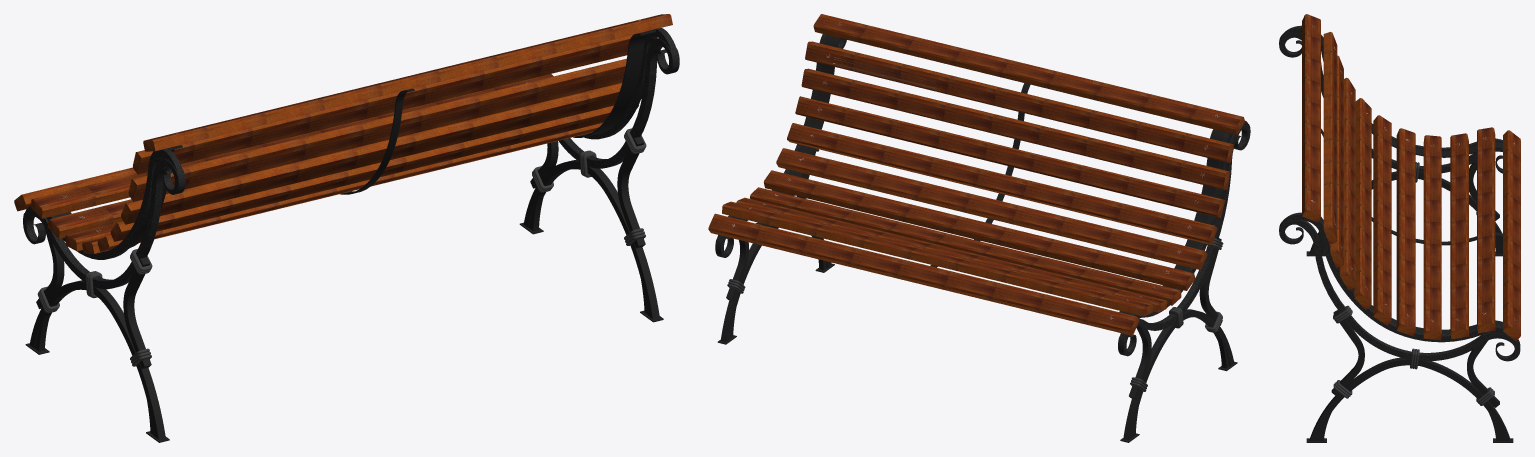
3 views of the same model, side by side, from view 1: azimuth 30°, elevation 25°; view 2: azimuth 150°, elevation 25°; view 3: azimuth 270°, elevation 25° (orthographic). The views are drawn at different scales.
Parts seen in each view (by area): view 1: mesh3_mesh3-geometry, mesh71_mesh71-geometry, mesh37_mesh37-geometry, mesh10_mesh10-geometry, mesh44_mesh44-geometry, mesh24_mesh24-geometry, mesh31_mesh31-geometry, mesh65_mesh65-geometry, mesh1_mesh1-geometry, mesh67_mesh67-geometry; view 2: mesh3_mesh3-geometry, mesh71_mesh71-geometry, mesh44_mesh44-geometry, mesh10_mesh10-geometry, mesh24_mesh24-geometry, mesh37_mesh37-geometry, mesh58_mesh58-geometry, mesh67_mesh67-geometry, mesh65_mesh65-geometry; view 3: mesh3_mesh3-geometry, mesh37_mesh37-geometry, mesh10_mesh10-geometry, mesh71_mesh71-geometry, mesh31_mesh31-geometry, mesh44_mesh44-geometry, mesh33_mesh33-geometry, mesh58_mesh58-geometry, mesh24_mesh24-geometry, mesh67_mesh67-geometry.
Boxes of the visible parts, box(x1,y1,x2,y2) form: mesh3_mesh3-geometry: box(14, 14, 672, 253); mesh71_mesh71-geometry: box(23, 148, 185, 289); mesh37_mesh37-geometry: box(558, 28, 679, 168); mesh10_mesh10-geometry: box(523, 160, 659, 319); mesh44_mesh44-geometry: box(29, 280, 165, 439); mesh24_mesh24-geometry: box(573, 29, 655, 137); mesh31_mesh31-geometry: box(617, 136, 645, 248); mesh65_mesh65-geometry: box(123, 257, 151, 368); mesh1_mesh1-geometry: box(340, 88, 414, 194); mesh67_mesh67-geometry: box(36, 226, 64, 308); mesh3_mesh3-geometry: box(708, 14, 1244, 335); mesh71_mesh71-geometry: box(1118, 120, 1250, 356); mesh44_mesh44-geometry: box(1123, 309, 1234, 440); mesh10_mesh10-geometry: box(720, 225, 831, 342); mesh24_mesh24-geometry: box(734, 35, 840, 221); mesh37_mesh37-geometry: box(715, 34, 846, 257); mesh58_mesh58-geometry: box(1119, 129, 1225, 314); mesh67_mesh67-geometry: box(1129, 325, 1151, 399); mesh65_mesh65-geometry: box(1199, 238, 1222, 325); mesh3_mesh3-geometry: box(1302, 14, 1520, 340); mesh37_mesh37-geometry: box(1279, 212, 1520, 361); mesh10_mesh10-geometry: box(1309, 357, 1510, 441); mesh71_mesh71-geometry: box(1279, 25, 1502, 174); mesh31_mesh31-geometry: box(1331, 310, 1364, 396); mesh44_mesh44-geometry: box(1309, 171, 1502, 254); mesh33_mesh33-geometry: box(1467, 340, 1499, 407); mesh58_mesh58-geometry: box(1321, 38, 1502, 157); mesh24_mesh24-geometry: box(1319, 217, 1502, 334); mesh67_mesh67-geometry: box(1469, 161, 1499, 220).
Size of the model in its own units: 0.7937 by 0.4456 by 0.4142.
